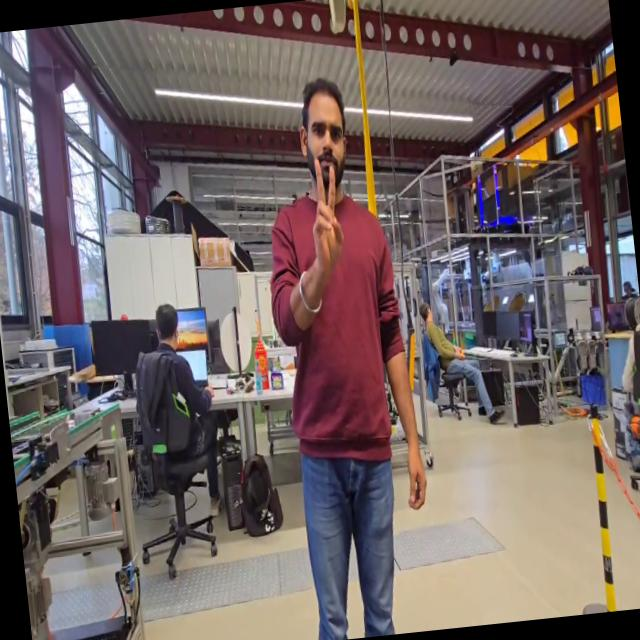v_sign: (304, 152, 351, 272)
